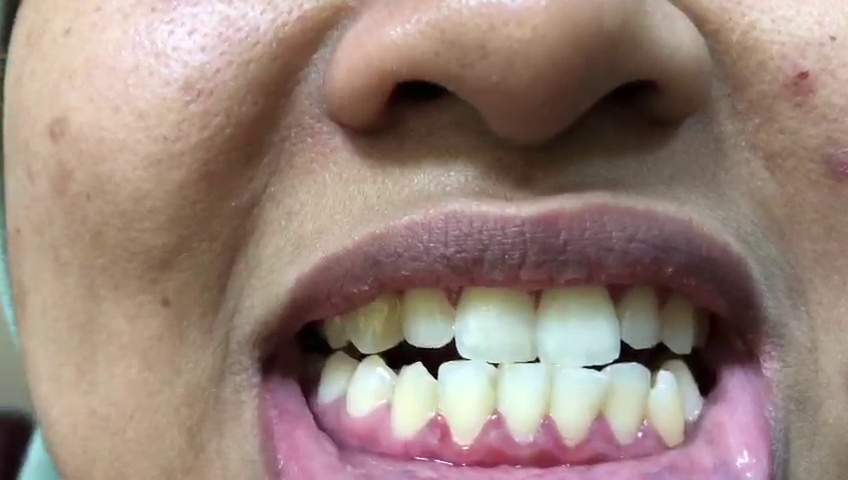1st Premolar: (344, 356, 394, 420), (667, 358, 704, 422)
2nd Premolar: (318, 354, 357, 408)
Canine: (345, 283, 401, 355), (392, 361, 437, 439), (650, 365, 684, 447), (665, 283, 696, 356)
Central Incisor: (538, 270, 621, 365), (456, 274, 540, 363), (550, 367, 607, 450), (500, 360, 550, 446)
Lateral Incisor: (440, 359, 498, 447), (602, 363, 650, 442), (401, 282, 454, 350), (619, 286, 663, 348)
